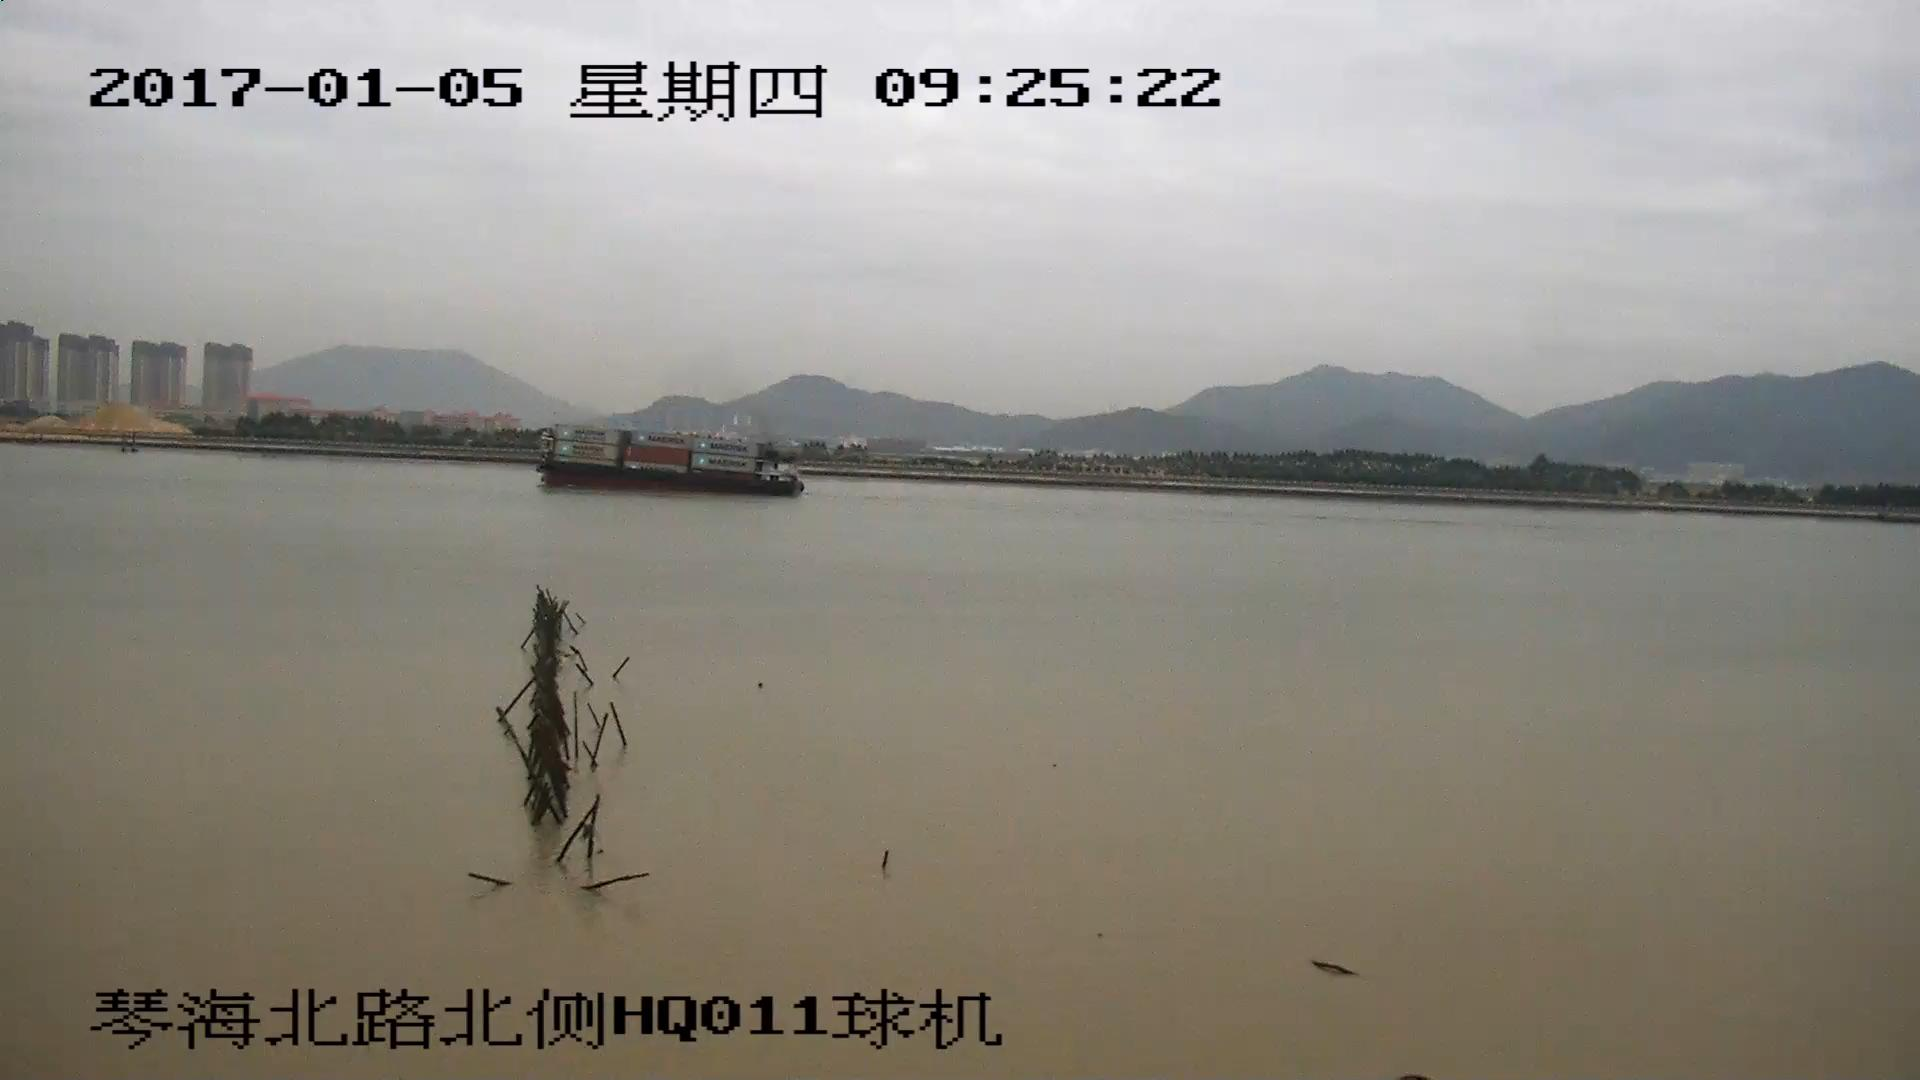container ship: (537, 426, 803, 498)
